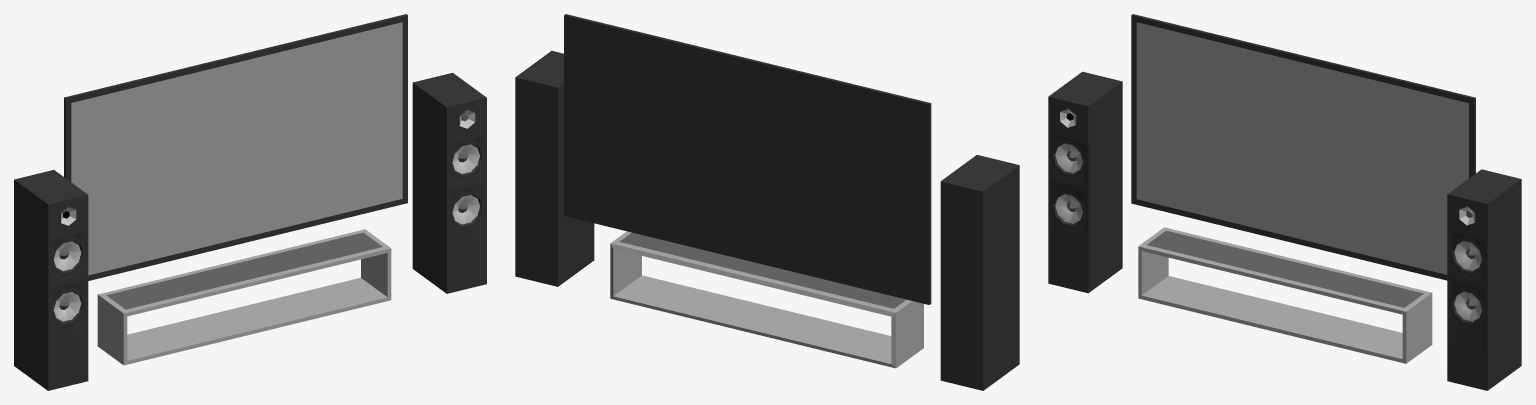
The model's file is Television.fbx.
3 views of the same model, side by side, from view 1: azimuth 30°, elevation 25°; view 2: azimuth 150°, elevation 25°; view 3: azimuth 330°, elevation 25° (orthographic). The views are drawn at different scales.
Visible parts, largest first — view 1: Television; view 2: Television; view 3: Television.
Boxes of the visible parts, x1,y1,x2,y2 form: Television: (14,14,486,390); Television: (515,14,1019,390); Television: (1048,14,1521,390).
Size of the model in its own units: 2.13 by 1.19 by 0.2943.
